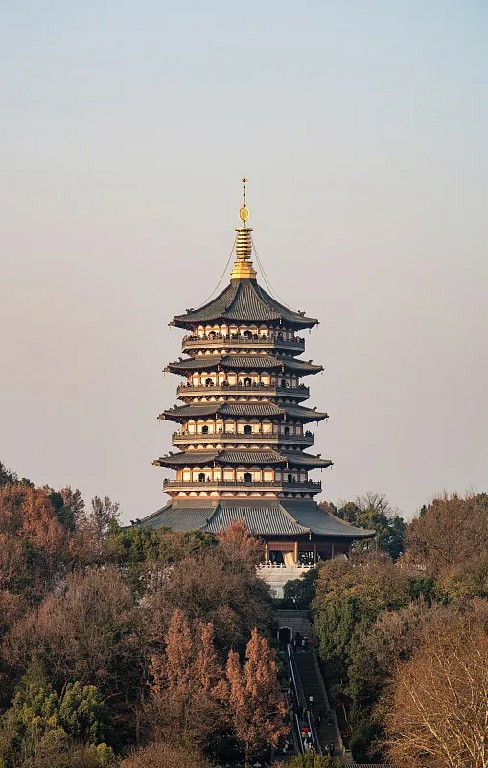Leifeng: (106, 179, 378, 565)
